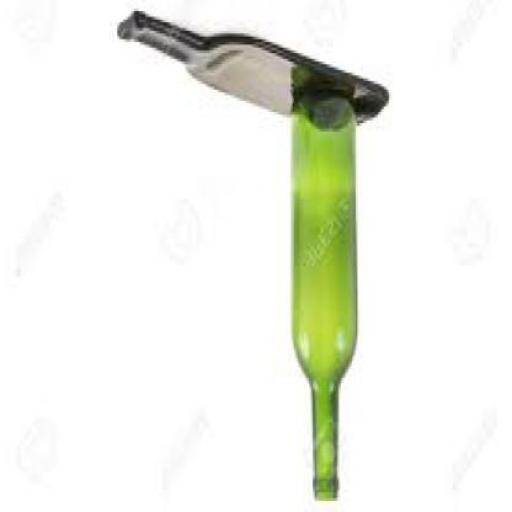glass: (292, 90, 362, 506)
plastic: (119, 16, 391, 134)
